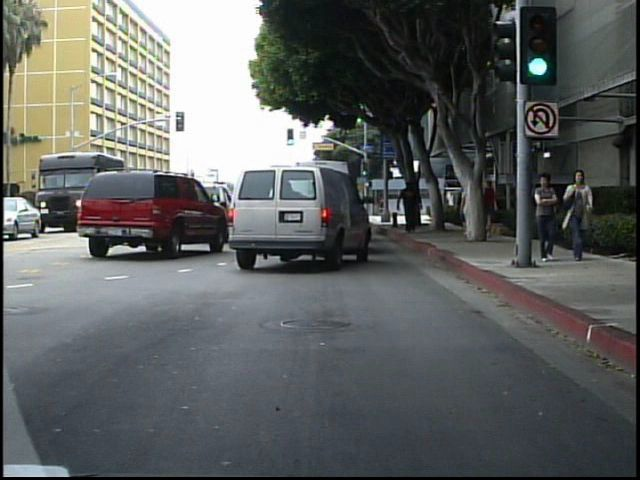person: (559, 166, 602, 268), (533, 170, 563, 267), (482, 172, 504, 242), (398, 181, 426, 236), (462, 176, 482, 247), (414, 186, 427, 220)
